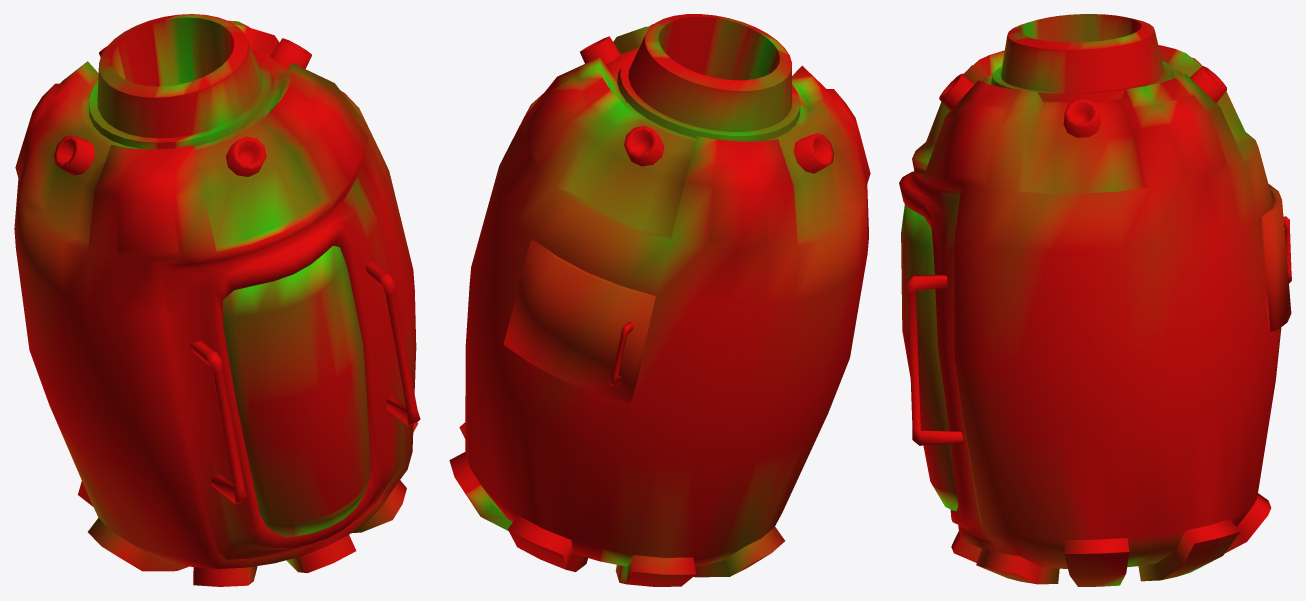
File: mdlEscape.fbx
3 views of the same model, side by side, from view 1: azimuth 30°, elevation 25°; view 2: azimuth 150°, elevation 25°; view 3: azimuth 270°, elevation 25° (orthographic). The views are drawn at different scales.
Visible parts, largest first — view 1: EscapePodMesh, EscapePodDoorMesh; view 2: EscapePodMesh, EscapePodMesh.002; view 3: EscapePodMesh, EscapePodDoorMesh, EscapePodMesh.002.
Part boxes in pixels (left/top/right/bottom): EscapePodMesh: left=14, top=14, right=420, bottom=586; EscapePodDoorMesh: left=223, top=245, right=370, bottom=537; EscapePodMesh: left=449, top=14, right=870, bottom=586; EscapePodMesh.002: left=503, top=239, right=655, bottom=402; EscapePodMesh: left=899, top=14, right=1281, bottom=586; EscapePodDoorMesh: left=901, top=204, right=958, bottom=511; EscapePodMesh.002: left=1261, top=184, right=1291, bottom=331.
Bounding box in the file's own units: 3.65 × 5.02 × 3.45.
